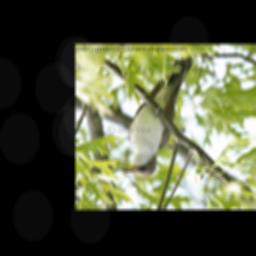Cuckoo: (121, 54, 193, 179)
